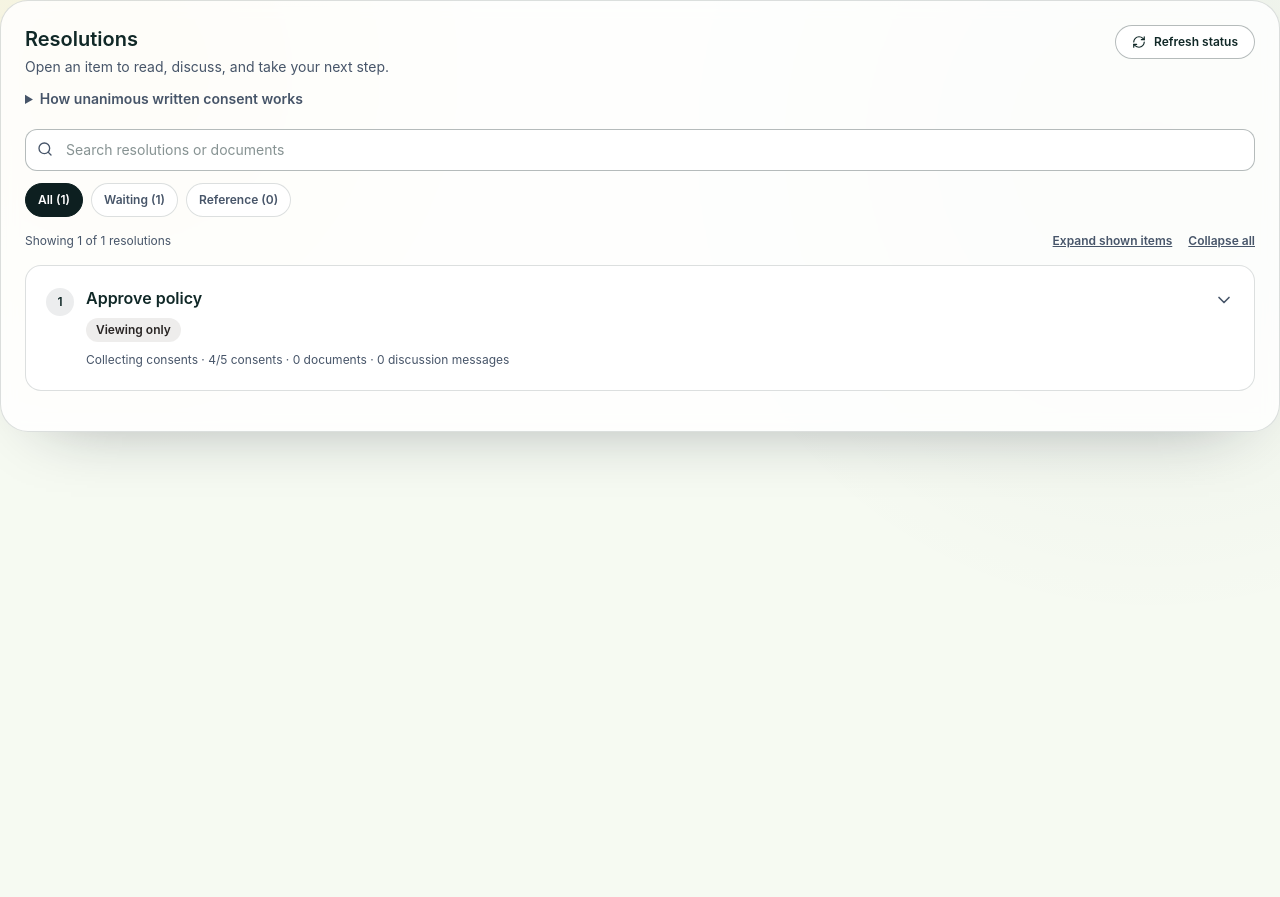
Test: AsyncBallots › shows named statuses with delivery times when viewer signing eligibility is false
Click the button "Expand shown items" at (1112, 241), box [1053,229,1172,253]
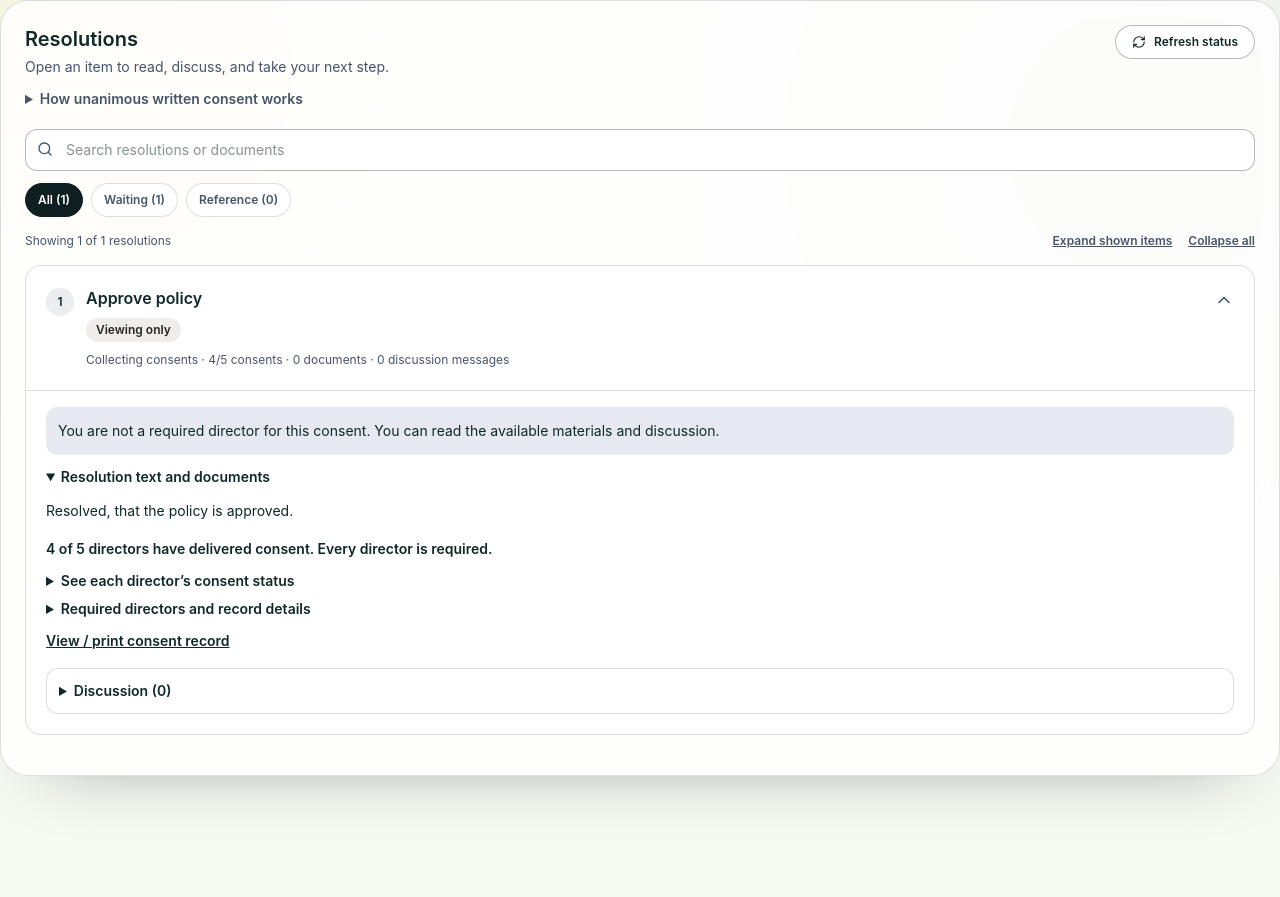
Click the heading "See each director’s consent status" at (178, 580), box [61,572,294,589]
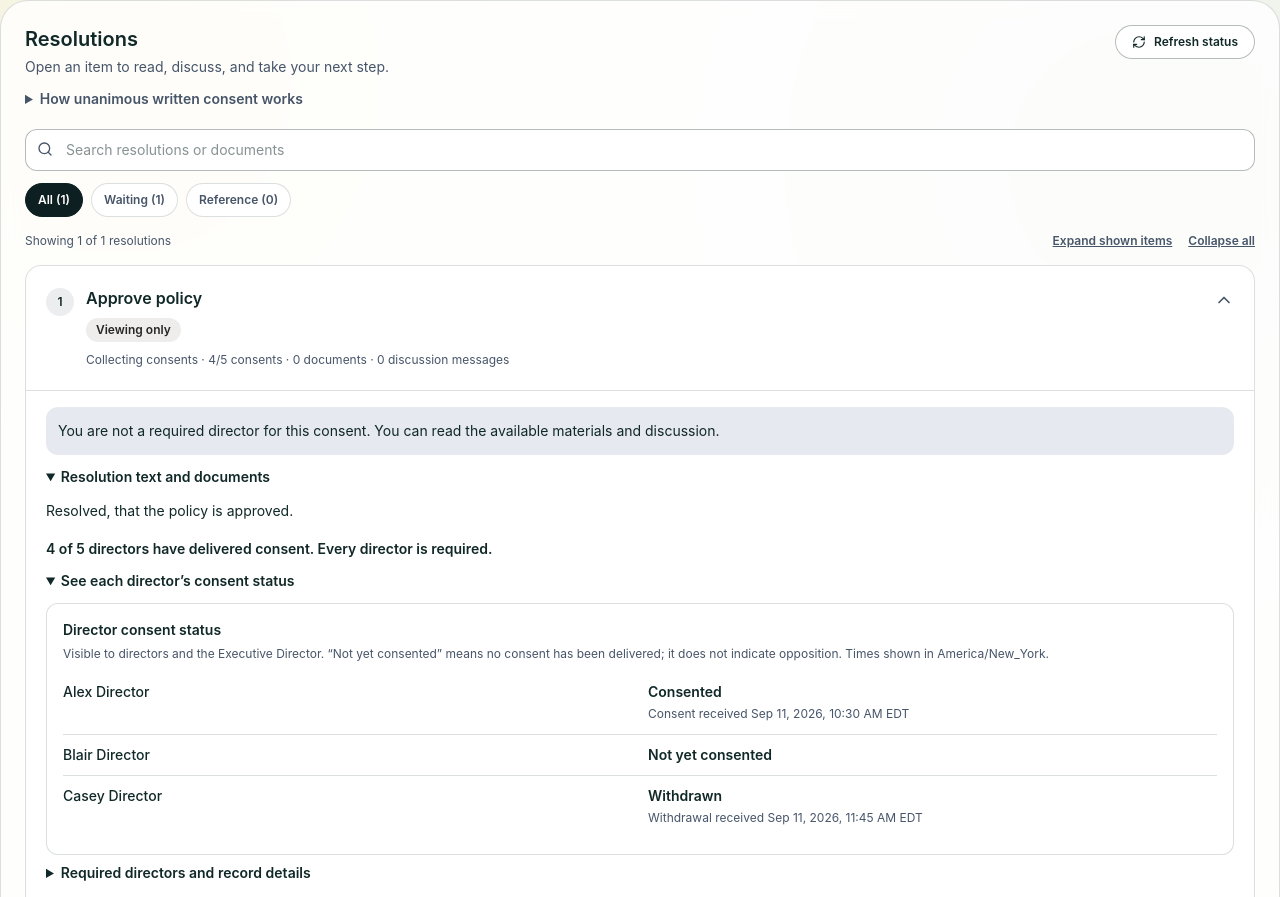
Now the text "does not indicate opposition" is shown, box [63,646,842,661]
Now the list item that starts with "Alex Director" reads "Alex Director Consented Consent received Sep 11, 2026, 10:30 AM EDT", box [63,672,1217,735]
Now the list item "Blair Director Not yet consented" is shown, box [63,735,1217,776]
